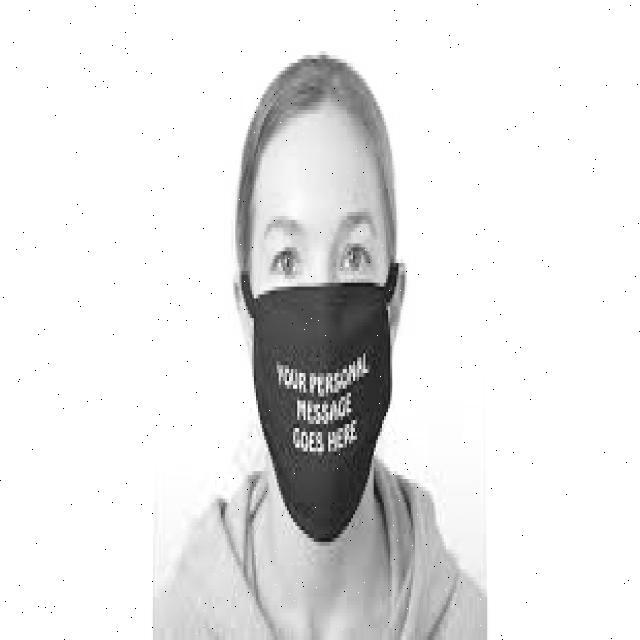fake: (234, 250, 416, 555)
real: (243, 108, 403, 561)
